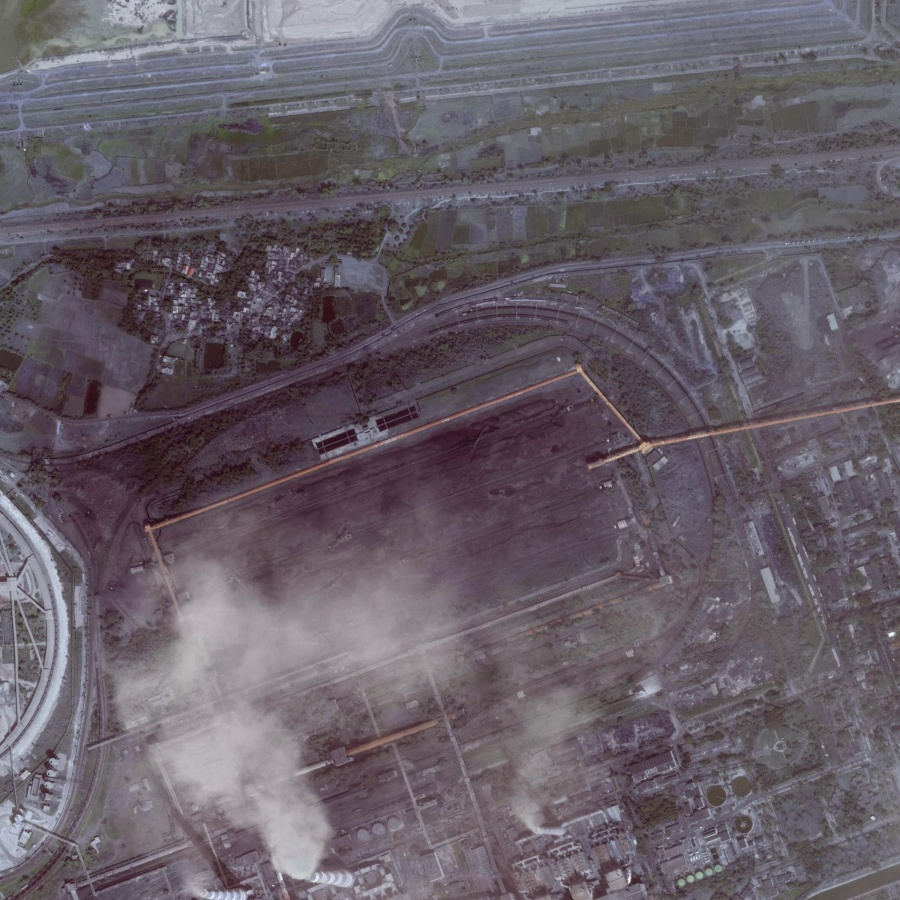PowerPlant: (95, 378, 676, 773)
